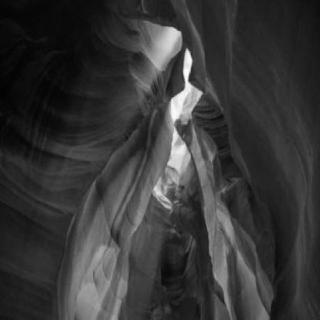other: (181, 97, 305, 307)
